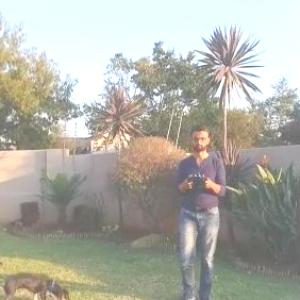follow: (173, 120, 230, 299)
null: (1, 257, 76, 299)
